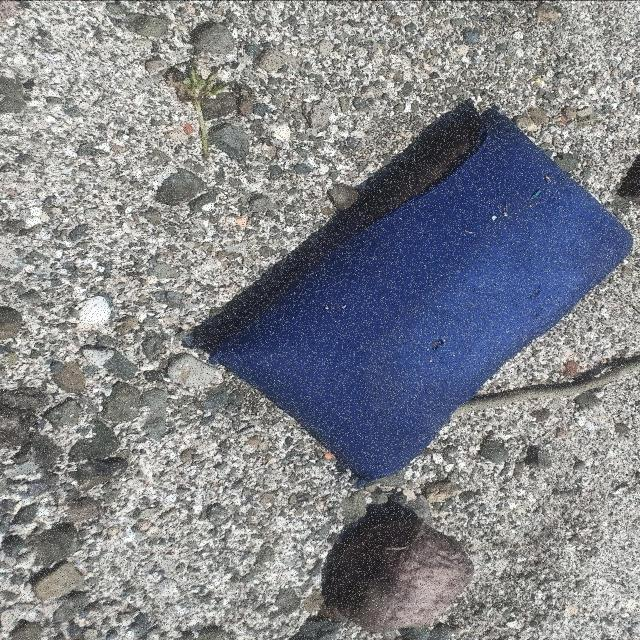textile_waste: (203, 108, 634, 478)
